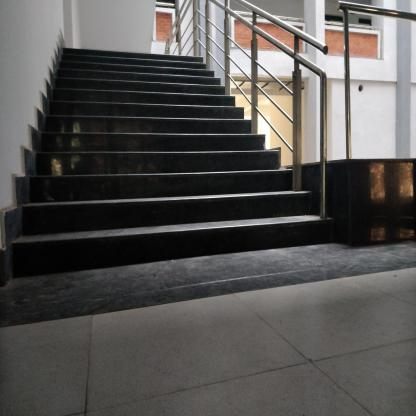stairs: (42, 134, 266, 286)
